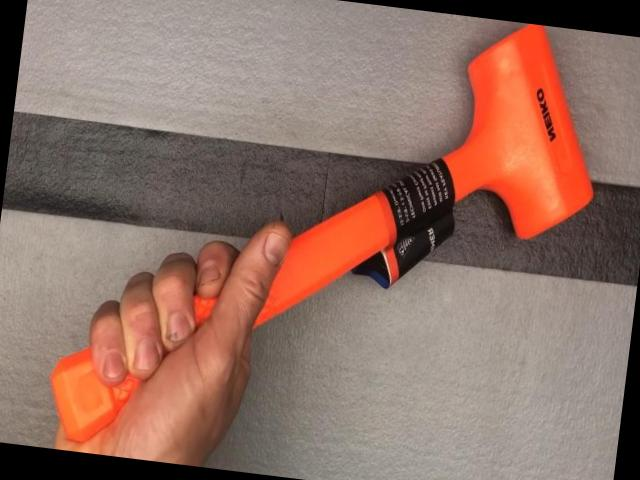hammer: (41, 0, 616, 480)
